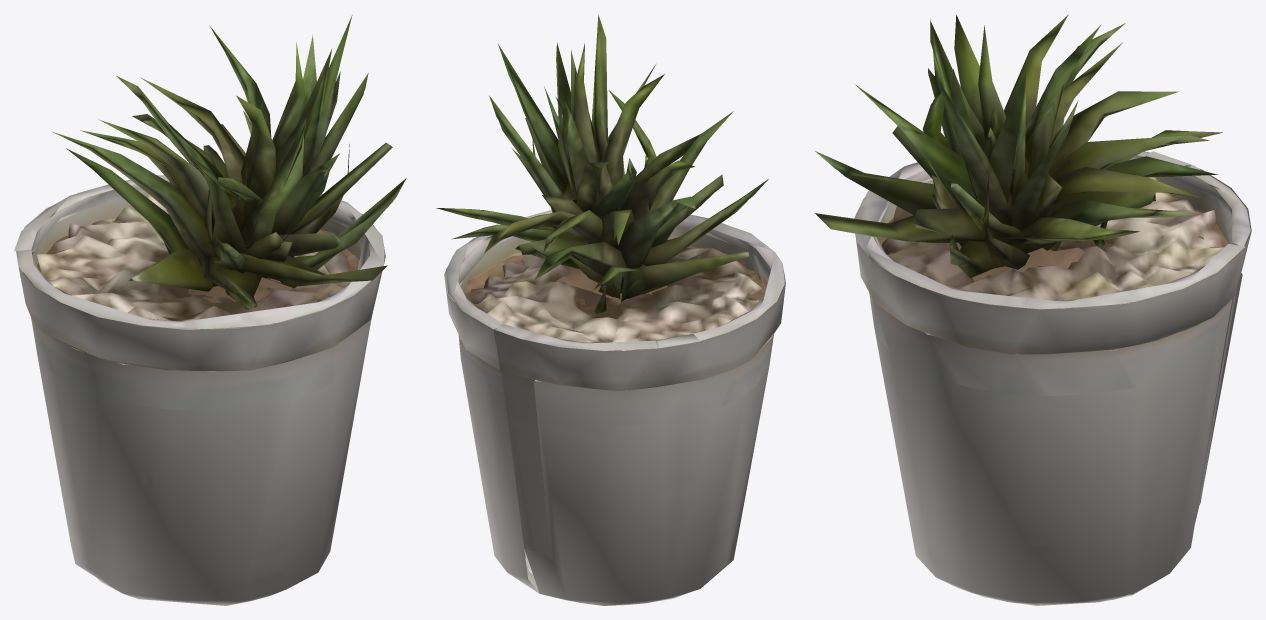
Rendered from plant-small-lightweight-629b3a0955.glb.
3 renders of one model, left to right at view 1: azimuth 30°, elevation 25°; view 2: azimuth 150°, elevation 25°; view 3: azimuth 270°, elevation 25°, orthographic. The views are drawn at different scales.
Visible parts, largest first — view 1: potted_plant_04_dirt; view 2: potted_plant_04_dirt; view 3: potted_plant_04_dirt.
Boxes of the visible parts, <box> form: potted_plant_04_dirt: <box>14,15,406,605</box>; potted_plant_04_dirt: <box>436,15,785,605</box>; potted_plant_04_dirt: <box>815,14,1251,605</box>.
Bounding box in the file's own units: 0.168 × 0.2676 × 0.1846.
1 material, 1 textured.
